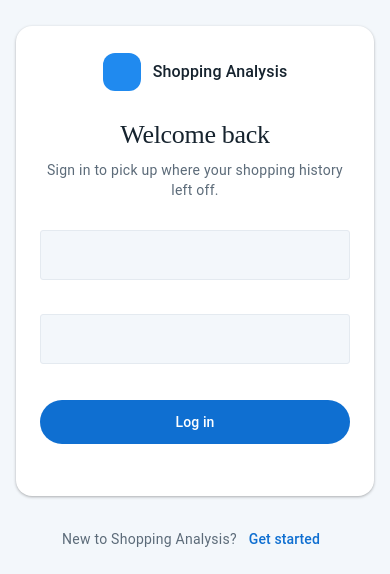
LoginScreen › falls back to a generic message for a non-API failure
In the field named "Email": (195, 256) [40,232,350,280], type "shopper@example.com"
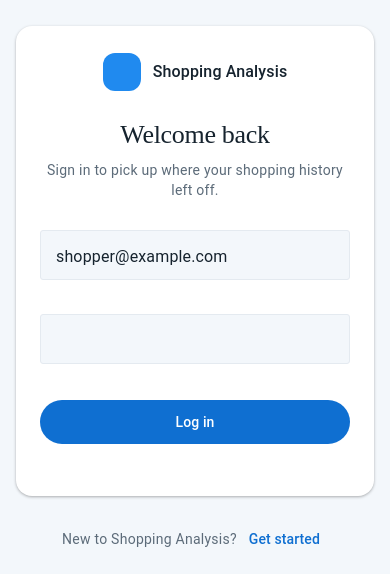
In the password field named "Password": (167, 340) [40,316,294,364], type "s3cret-pass"
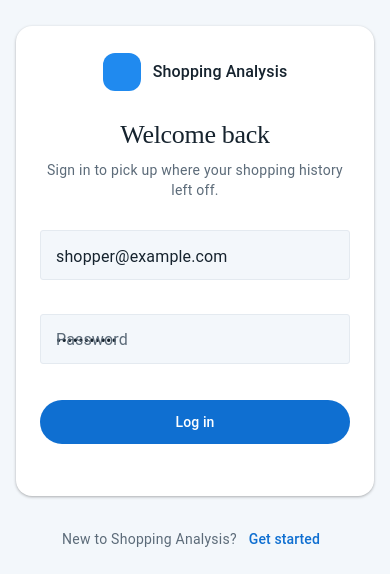
Click the button labelled "Log in": (195, 422) [40,400,350,444]
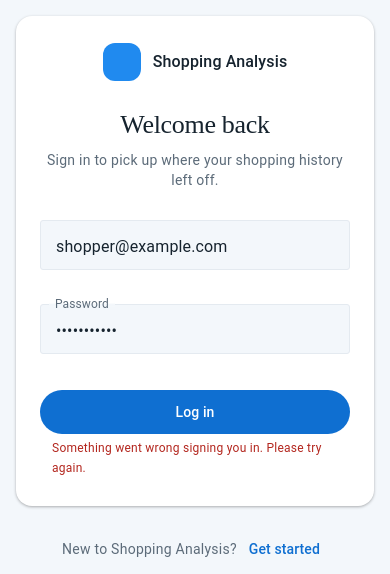
Expected: the text "Something went wrong signing you in. Please try again." is shown, [40,434,350,482]
